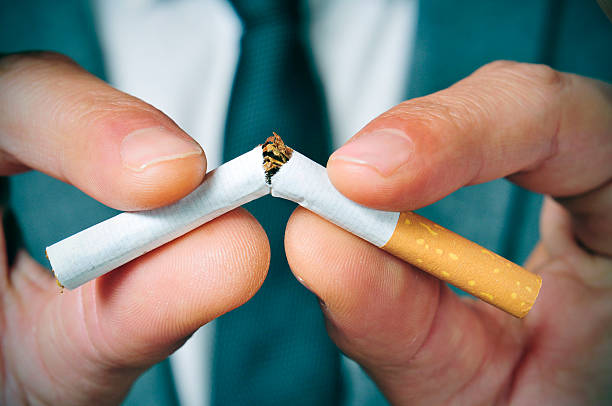cigarette: (269, 145, 543, 320), (46, 141, 285, 291)
